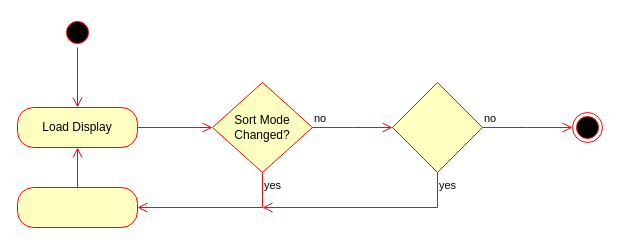
The diagram is 620 pixels wide and 245 high, and some of its shapes have lost their labels. Each missing label, with the box of its shape:
Search Changed?: (392, 82, 482, 172)
Update List: (16, 186, 138, 228)
